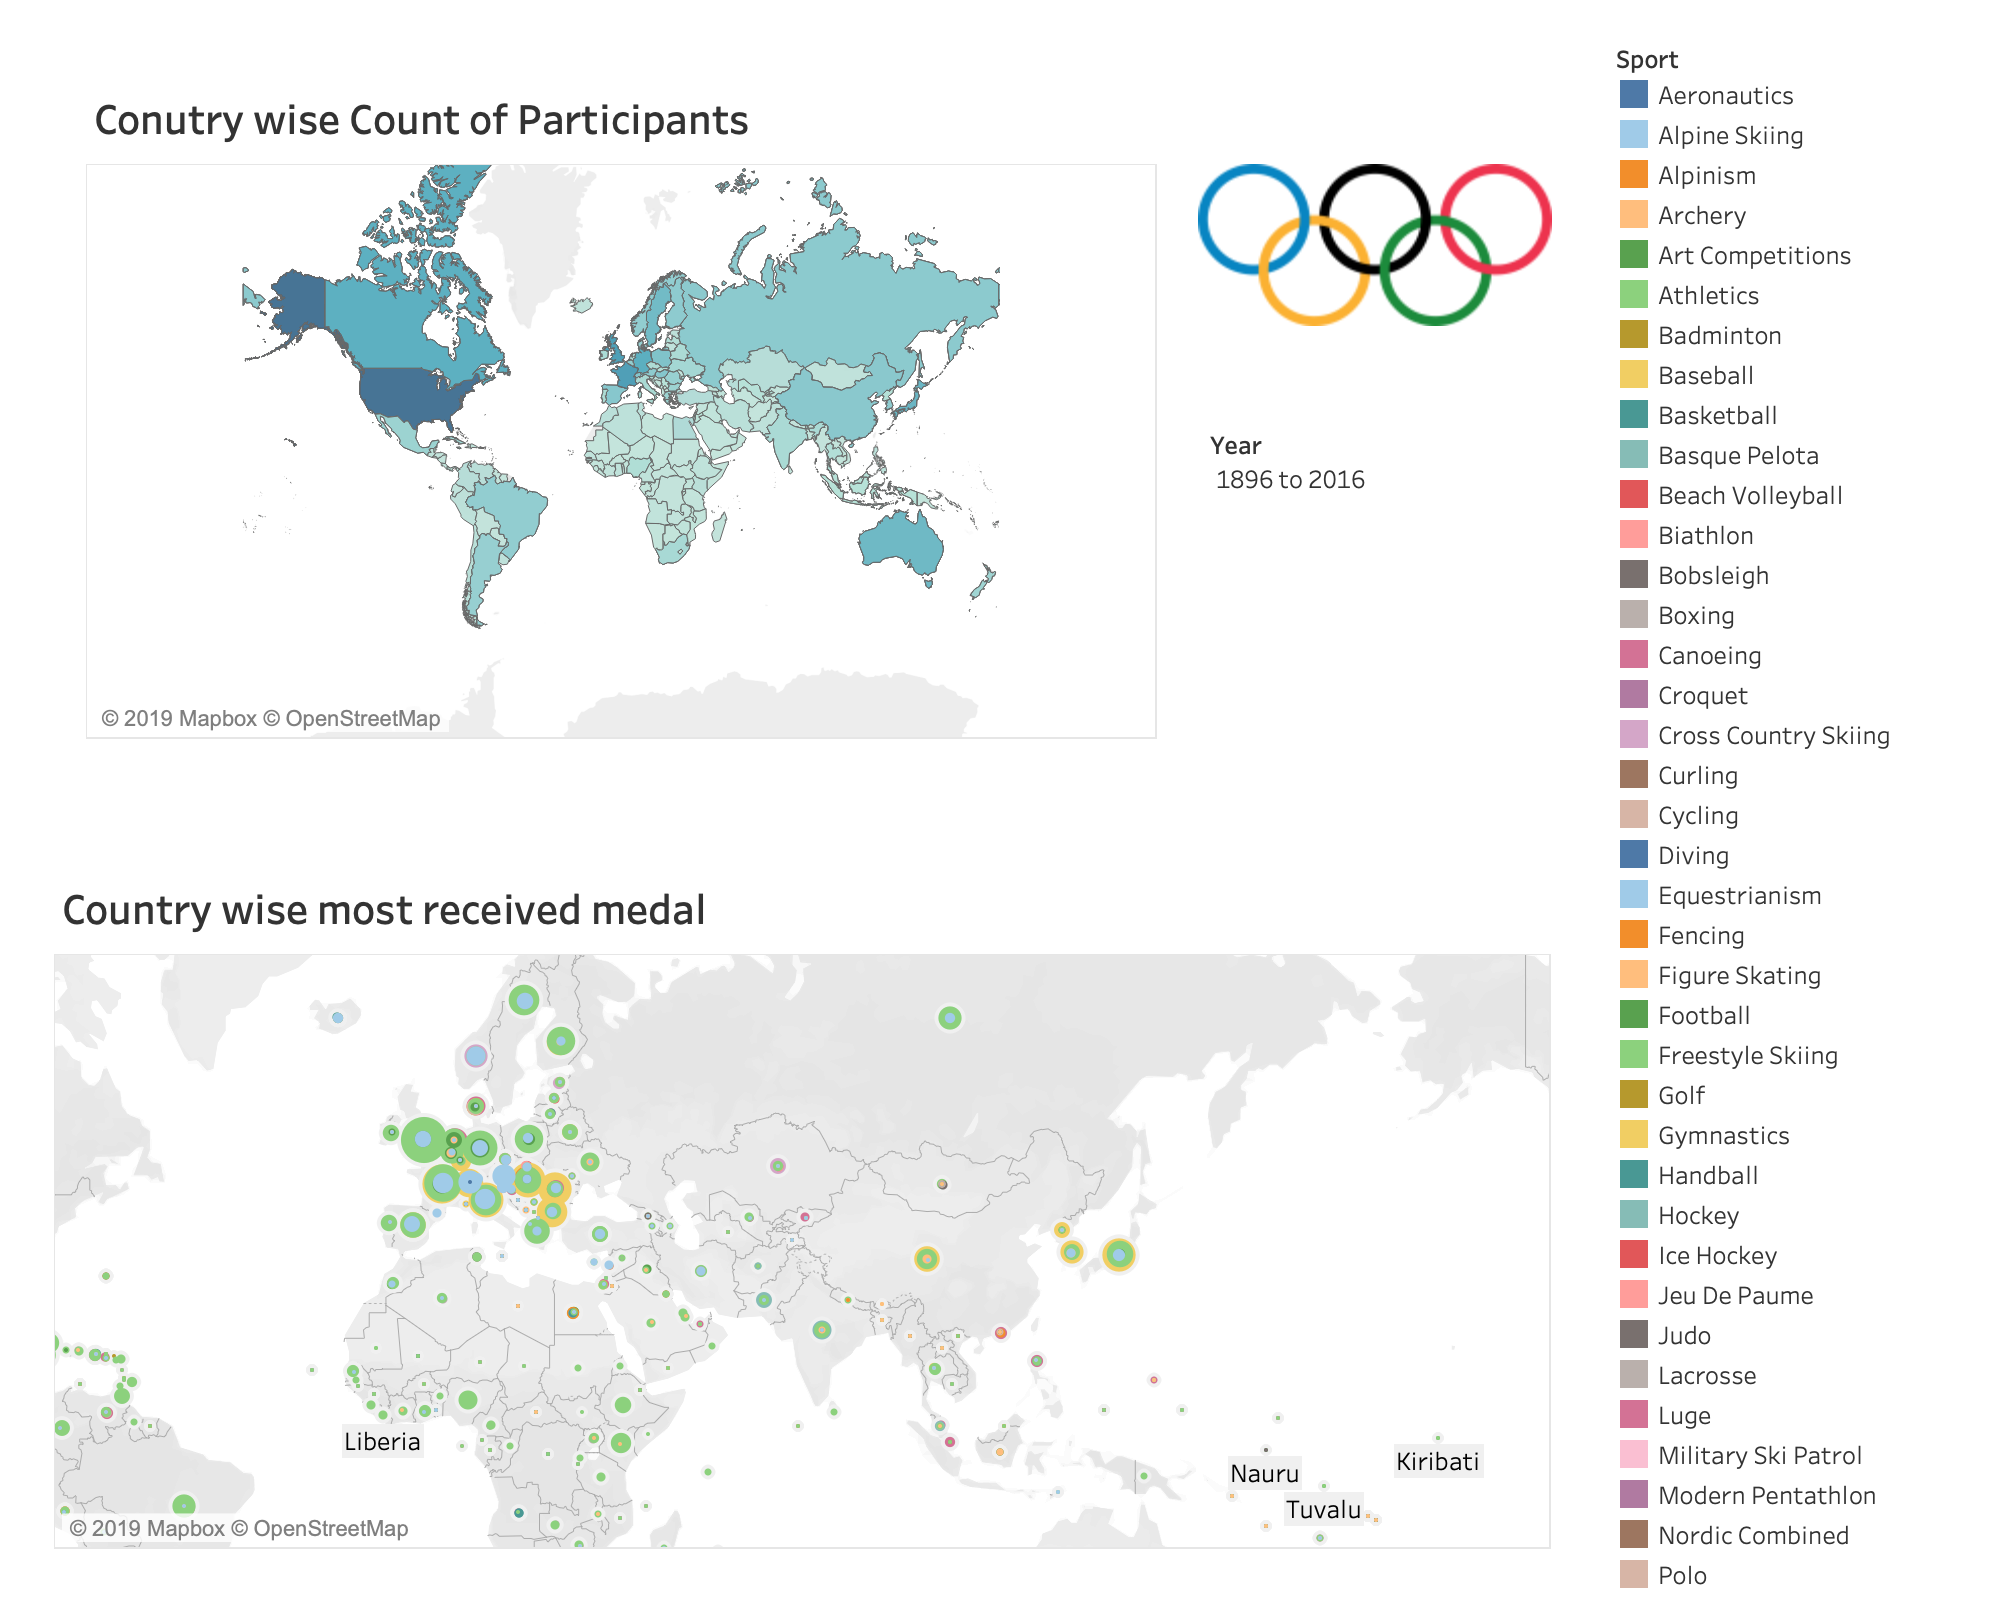

This screenshot's page, from the dashboard's own definition file:
{"tool":"tableau","page":{"name":"Country_dashboard","canvas":[1000,800],"ordinal":0},"visuals":[{"type":"worksheet","title":"Sheet 1","mark":"Automatic","box":[43,39,536,331]},{"type":"image","param":"/Users/mugdhabajjuri/Desktop/dataVisuals/img.png","box":[599,82,177,82]},{"type":"filter","title":"Sheet 1","param":"[federated.1xbeyc50bsaoqk1h3shx91v1vtxf].[none:Year:qk]","box":[605,213,160,61]},{"type":"worksheet","title":"Sheet 2","mark":"Circle","box":[27,434,749,341]}]}

Visuals, with their boxes in screenshot pixels (x1, y1, x2, y2), scaled from the page's 1000x800 canvas onto the 2000x1600 screenshot:
"Sheet 1" worksheet: pyautogui.locateOnScreen(86, 78, 1158, 740)
image: pyautogui.locateOnScreen(1198, 164, 1552, 328)
"Sheet 1" filter: pyautogui.locateOnScreen(1210, 426, 1530, 548)
"Sheet 2" worksheet (Circle marks): pyautogui.locateOnScreen(54, 868, 1552, 1550)
